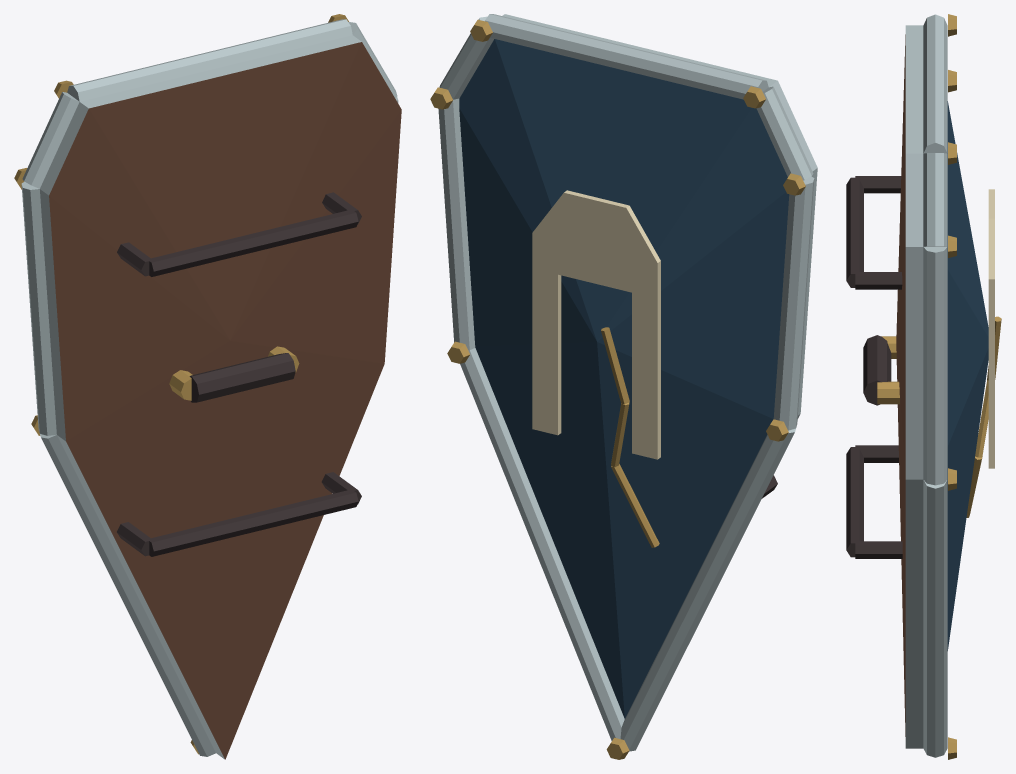
The model's file is Homeward.fbx.
3 views of the same model, side by side, from view 1: azimuth 30°, elevation 25°; view 2: azimuth 150°, elevation 25°; view 3: azimuth 270°, elevation 25° (orthographic). The views are drawn at different scales.
Parts seen in each view (by area): view 1: Legendary_Homeward; view 2: Legendary_Homeward; view 3: Legendary_Homeward.
Boxes of the visible parts, x1,y1,x2,y2 form: Legendary_Homeward: (14, 14, 401, 759); Legendary_Homeward: (430, 14, 817, 759); Legendary_Homeward: (846, 14, 1001, 759).
Size of the model in its own units: 0.6579 by 1.18 by 0.2456.
